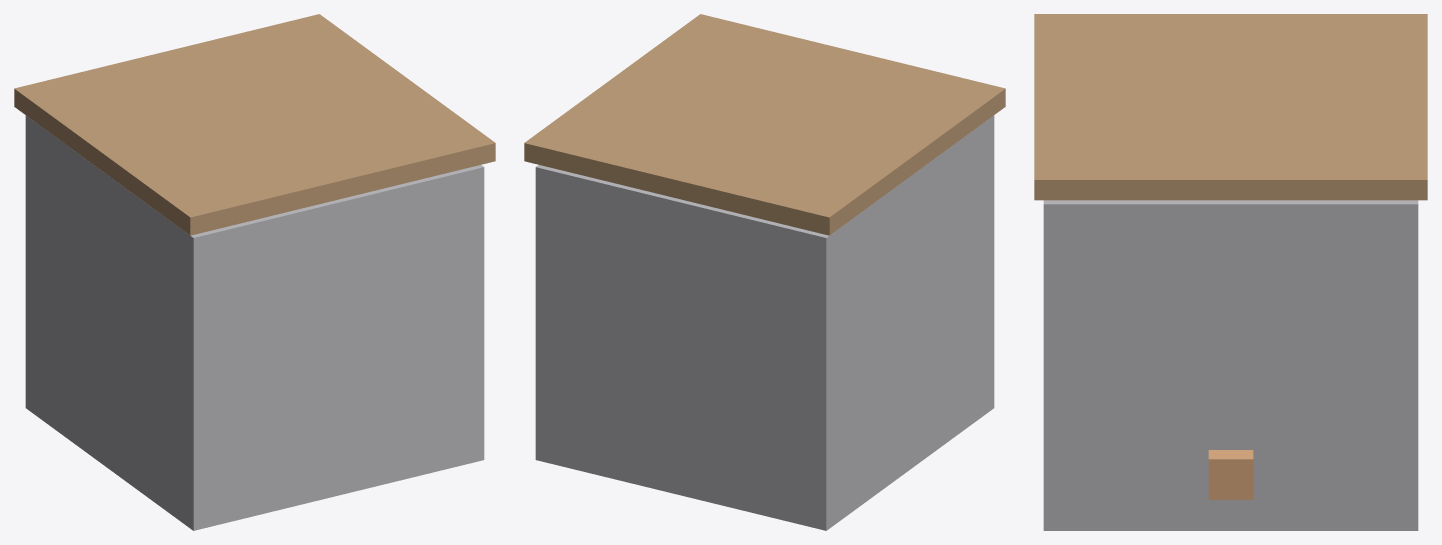
Rendered from Prop_Water_AMF_Cistern_V4.glb.
The picture shows the model from 3 angles, left to right: view 1: azimuth 30°, elevation 25°; view 2: azimuth 150°, elevation 25°; view 3: azimuth 270°, elevation 25°; orthographic projection. The views are drawn at different scales.
Visible parts, largest first — view 1: Prop_Water_AMF_Cistern_V4; view 2: Prop_Water_AMF_Cistern_V4; view 3: Prop_Water_AMF_Cistern_V4.
Boxes of the visible parts, box(x1,y1,x2,y2) form: Prop_Water_AMF_Cistern_V4: box(14, 14, 495, 530); Prop_Water_AMF_Cistern_V4: box(524, 14, 1005, 530); Prop_Water_AMF_Cistern_V4: box(1034, 14, 1427, 530).
Bounding box in the file's own units: 1.82 × 1.75 × 1.76.
